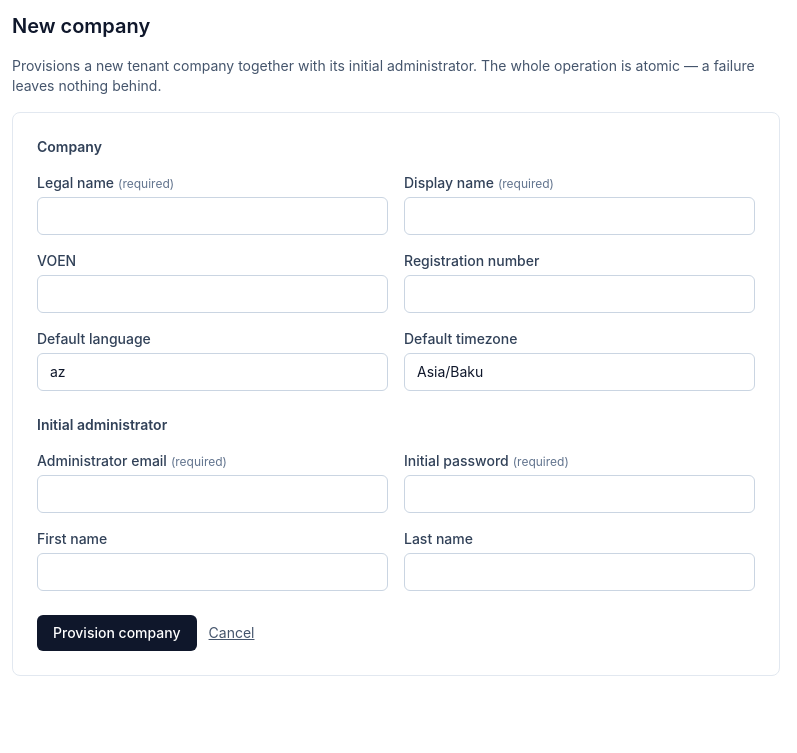
Test case: AdminCompanyCreatePage › shows a throttle message on 429
Type "Acme LLC" into the field labelled "Legal name(required)" at [212, 216], box [37,197,388,235]
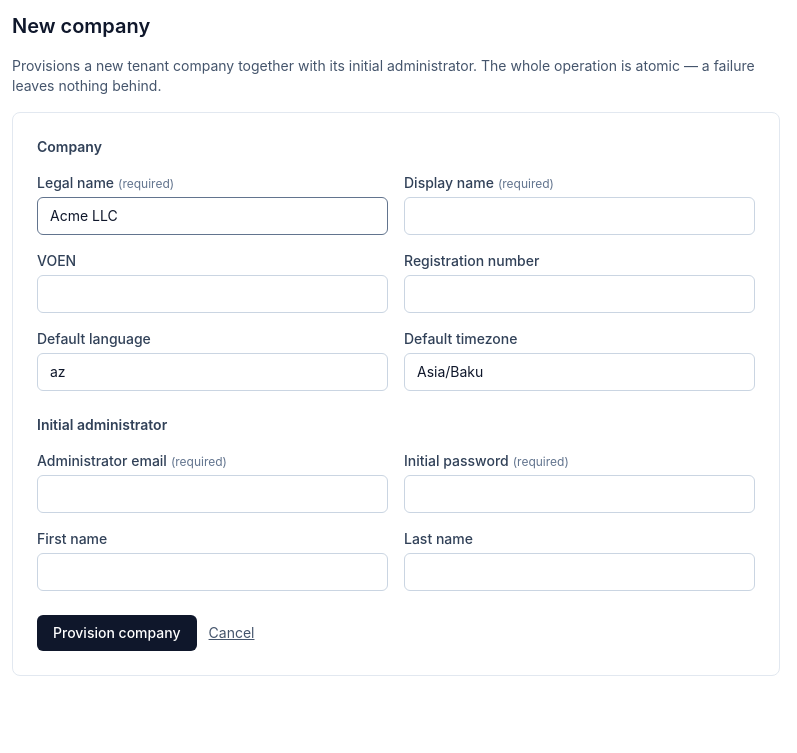
Type "Acme" into the field labelled "Display name(required)" at [580, 216], box [404,197,755,235]
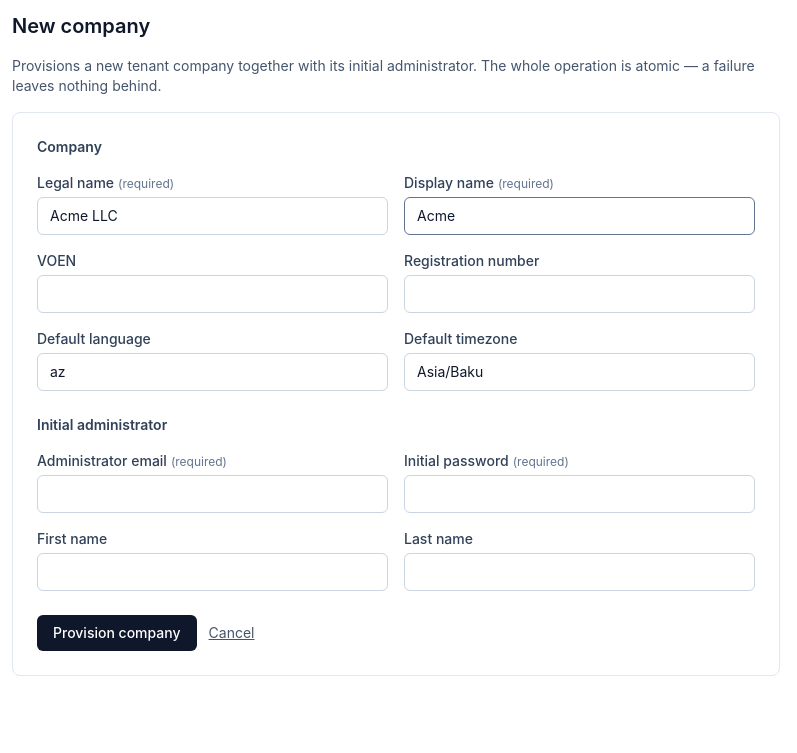
Type "owner@acme.example" into the field labelled "Administrator email(required)" at [212, 494], box [37,475,388,513]
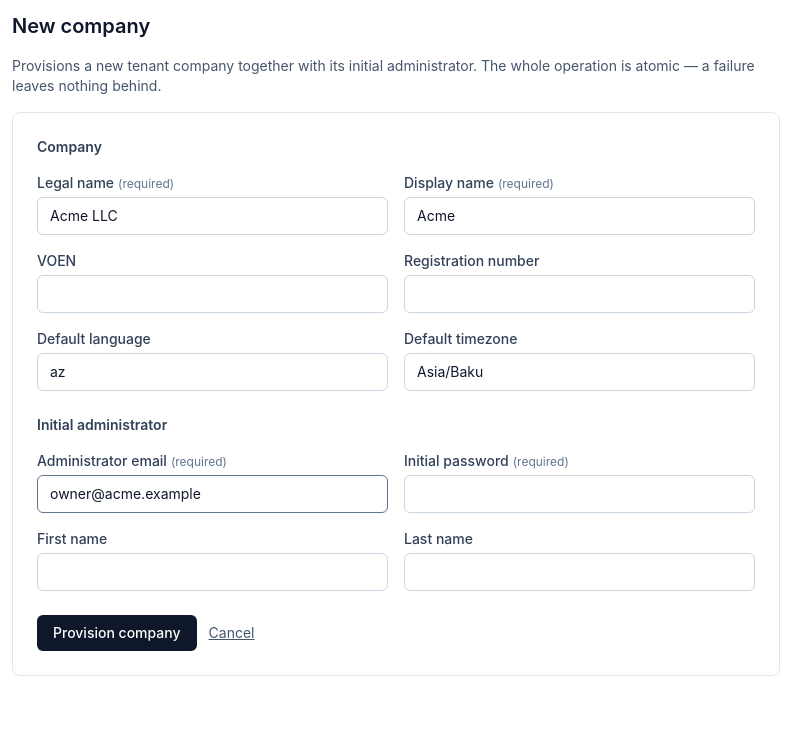
Type "Str0ng-pass-123!" into the password field labelled "Initial password(required)" at [580, 494], box [404,475,755,513]
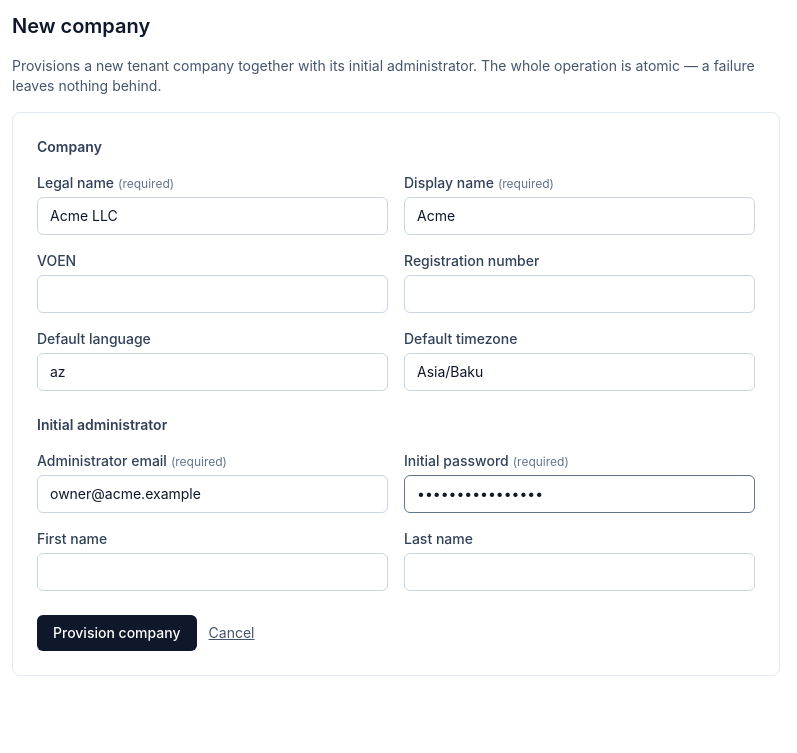
Click the button "Provision company" at [117, 633], box [37,615,196,651]
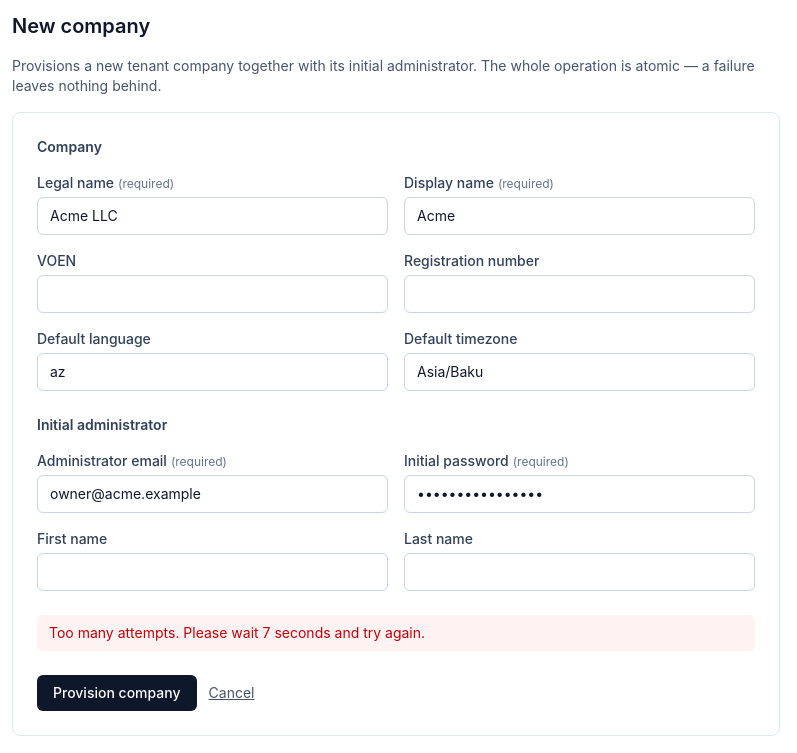
Result: the message shows "Too many attempts" at [49,624,425,641]
Result: the message shows "7" at [49,624,425,641]
